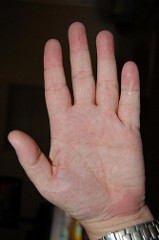palm: (46, 106, 149, 215)
